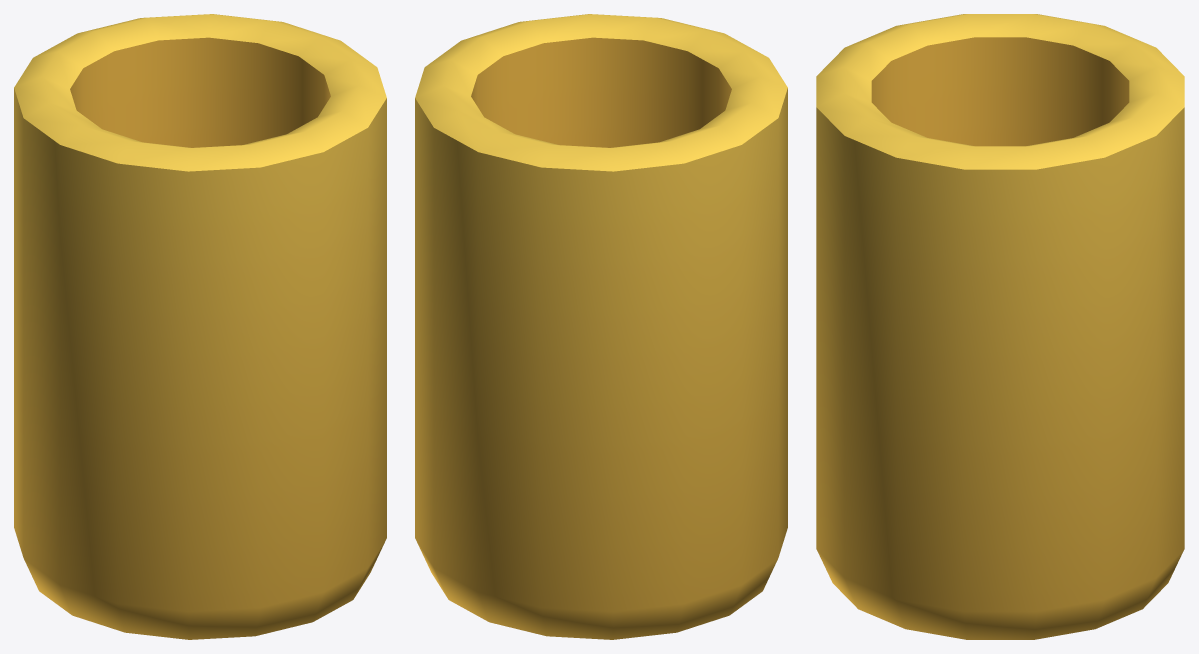
Rendered from toothbrush_cup.fbx.
The picture shows the model from 3 angles, left to right: view 1: azimuth 30°, elevation 25°; view 2: azimuth 150°, elevation 25°; view 3: azimuth 270°, elevation 25°; orthographic projection.
Parts seen in each view (by area): view 1: toothbrush_cup; view 2: toothbrush_cup; view 3: toothbrush_cup.
Part boxes in pixels (left/top/right/bottom): toothbrush_cup: left=14, top=14, right=386, bottom=639; toothbrush_cup: left=415, top=14, right=787, bottom=639; toothbrush_cup: left=816, top=14, right=1184, bottom=639.
Bounding box in the file's own units: 0.288 × 0.4348 × 0.288.
